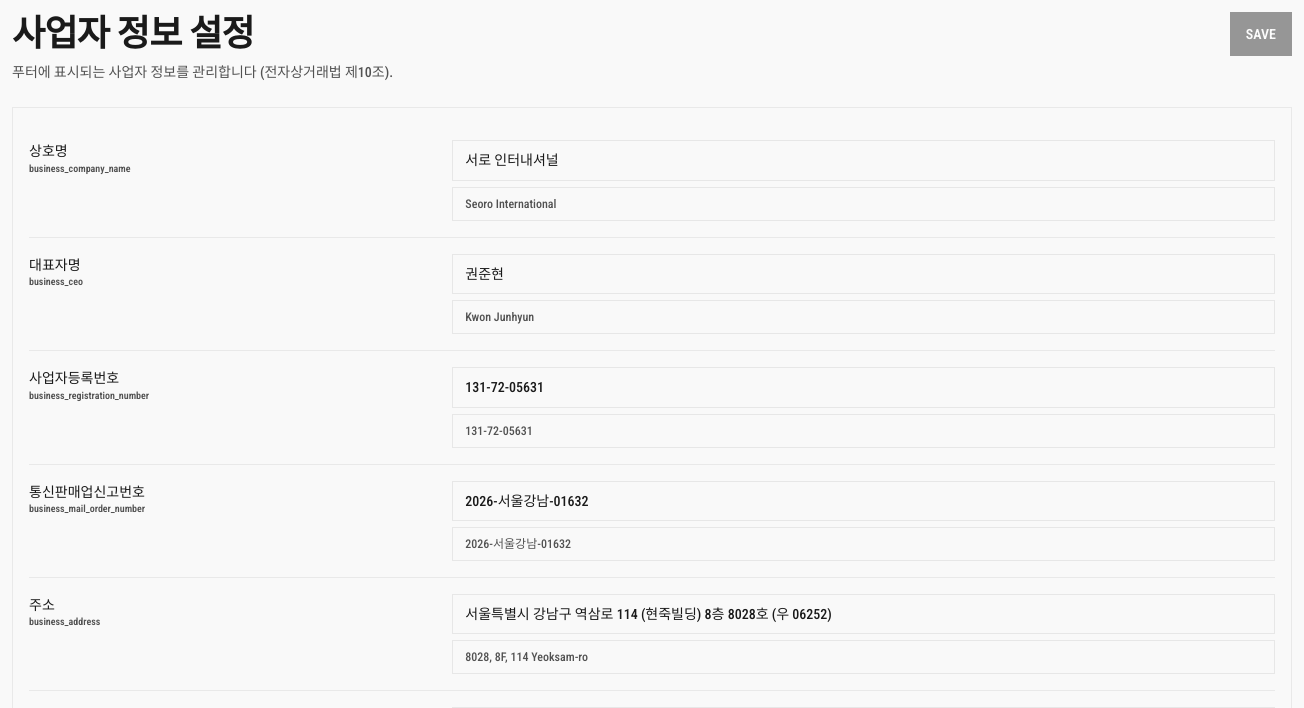
Test: BusinessInfoEditor › save button enables when field is edited
The image size is (1304, 708).
Replace the text in the field showing "서로 인터내셔널" with "새 상호명" at (864, 161), box [452, 140, 1275, 181]
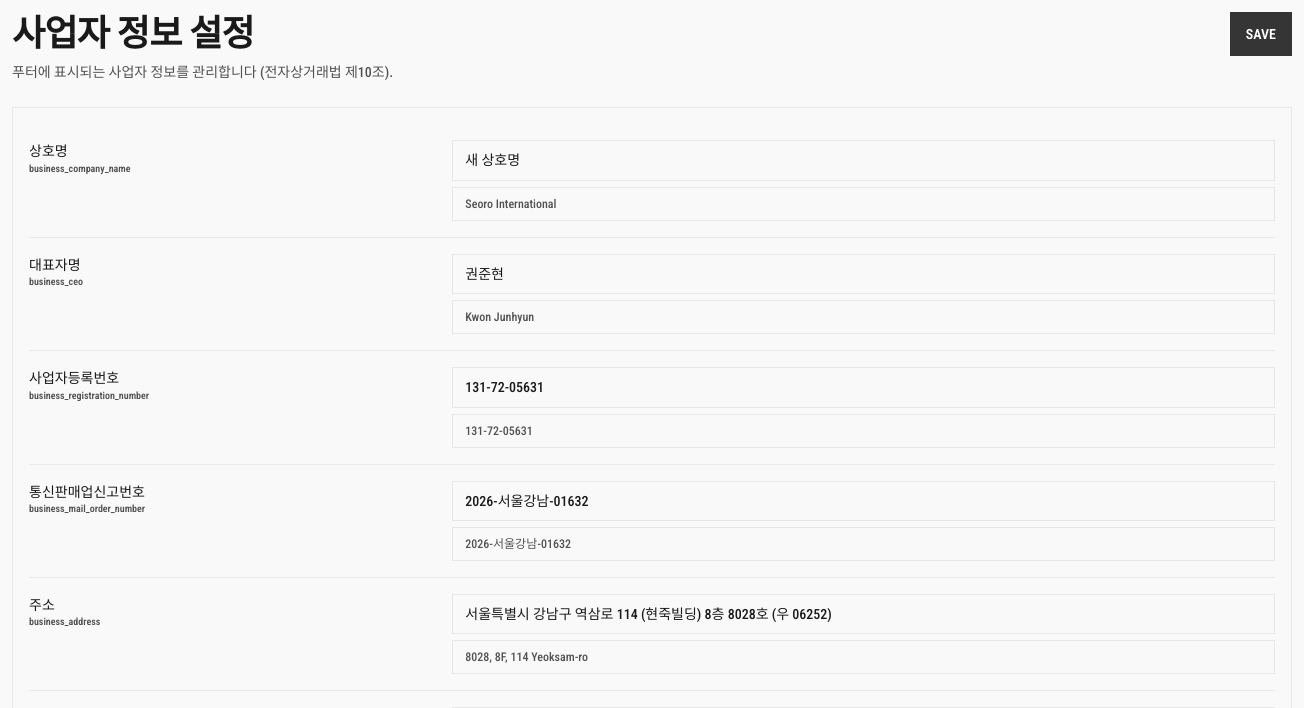
Result: the button "Save" is enabled at [1230, 12, 1292, 56]
